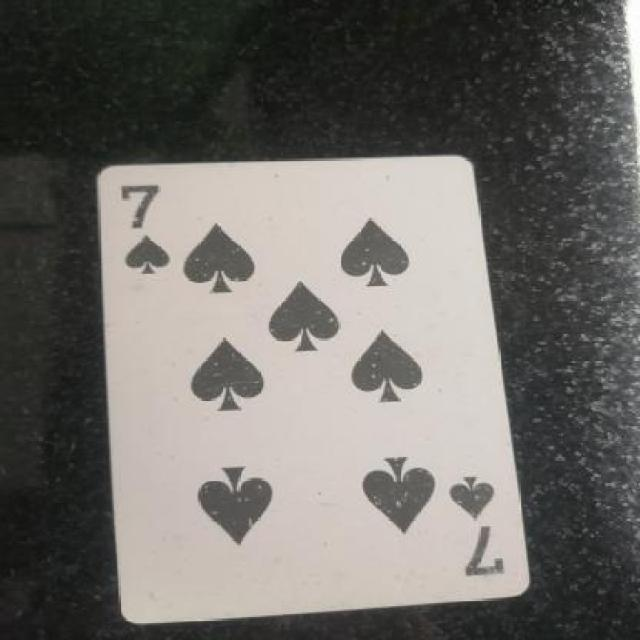7S: (429, 465, 529, 590), (112, 169, 195, 282)
